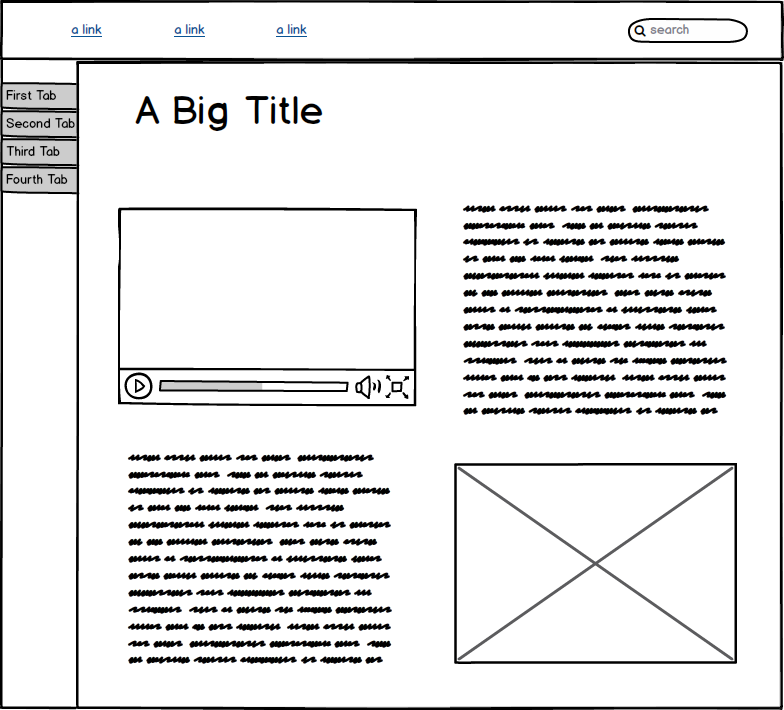h1: (130, 90, 330, 134)
image: (448, 459, 742, 670)
navlink: (63, 17, 116, 48), (267, 18, 318, 45), (168, 17, 216, 44)
p: (458, 197, 744, 426), (123, 448, 399, 670)
search: (624, 15, 751, 50)
sidebar: (1, 80, 89, 203)
video: (113, 203, 424, 411)
